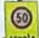limite 50: (10, 6, 32, 29)
